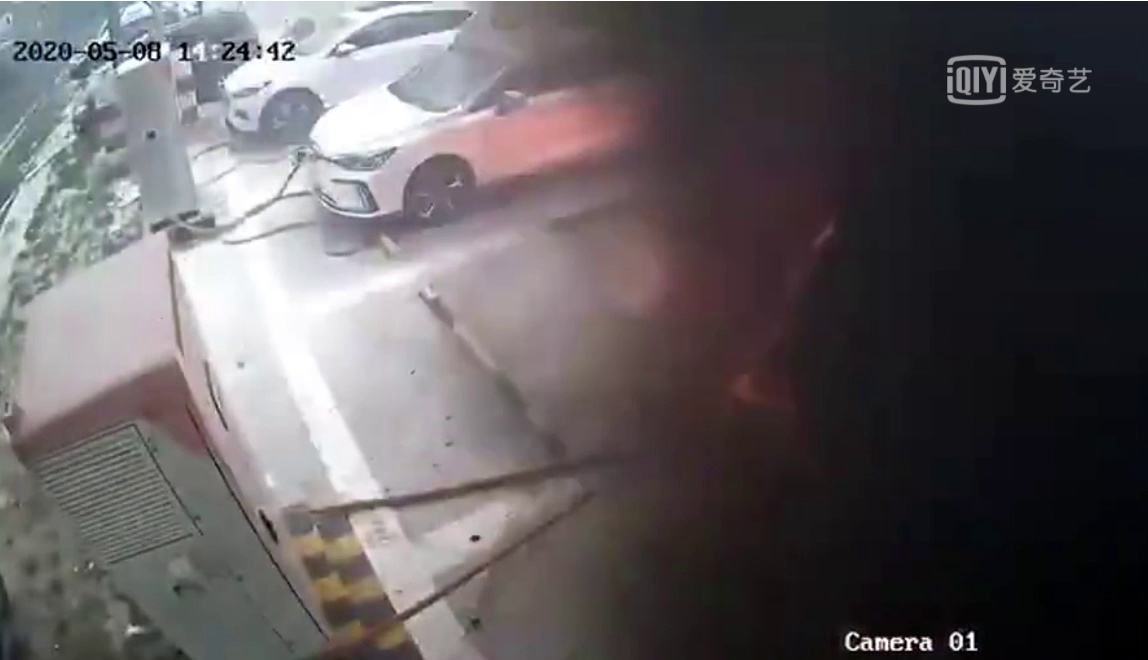smoke: (579, 12, 1109, 624)
